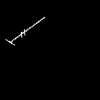treble_crochet: (9, 17, 44, 43)
